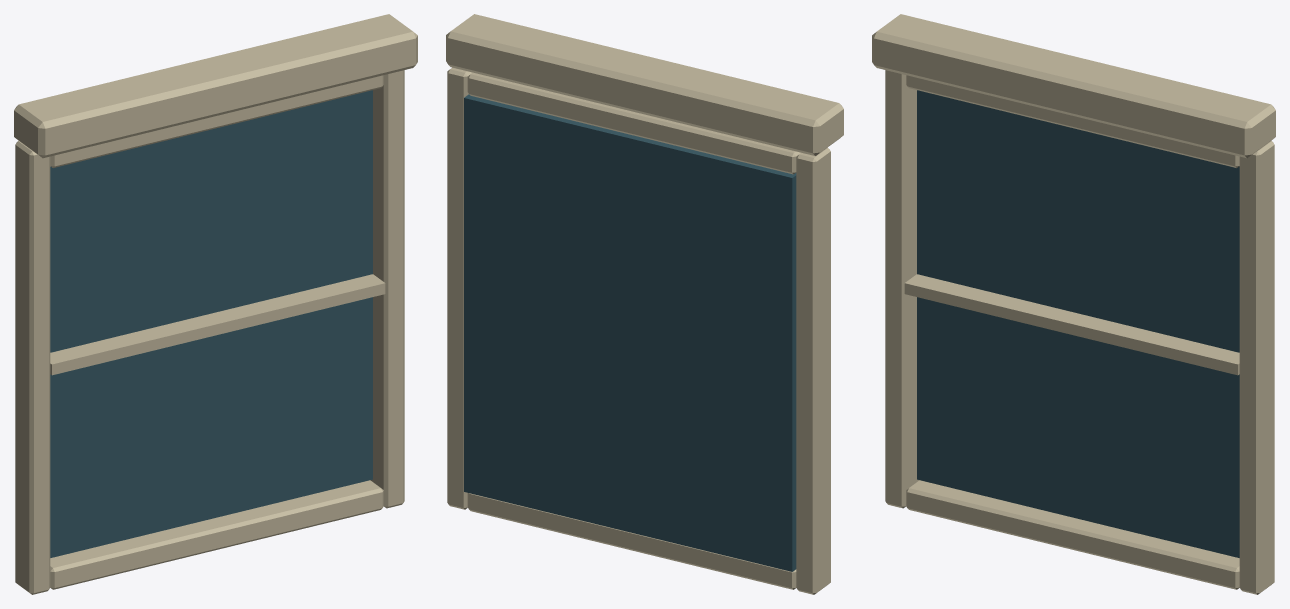
File: window_30.glb
3 views of the same model, side by side, from view 1: azimuth 30°, elevation 25°; view 2: azimuth 150°, elevation 25°; view 3: azimuth 330°, elevation 25° (orthographic).
Parts seen in each view (by area): view 1: window_30; view 2: window_30; view 3: window_30.
Part boxes in pixels (x1,y1,x2,y2): window_30: (14, 14, 417, 594); window_30: (446, 14, 843, 594); window_30: (872, 14, 1275, 594).
Size of the model in its own units: 1.64 by 1.99 by 0.2375.
